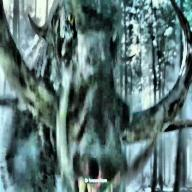boar: (10, 0, 170, 192)
